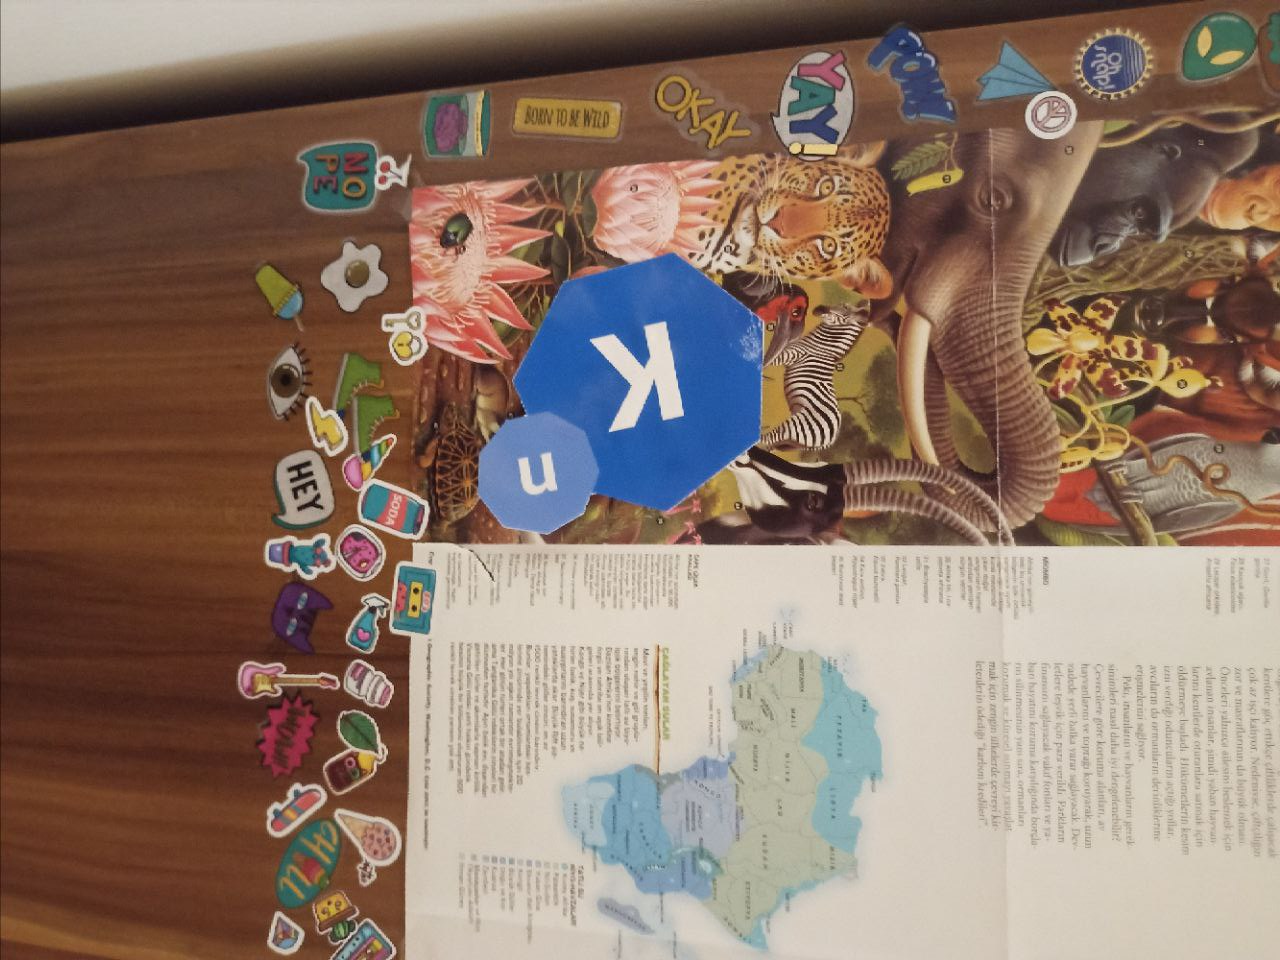knative: (478, 254, 762, 534)
